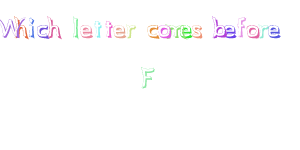F: (130, 62, 162, 91)
W: (1, 16, 19, 40)
b: (211, 10, 226, 42)
c: (36, 23, 50, 42), (145, 22, 158, 40)
e: (268, 21, 284, 42), (224, 21, 238, 43), (80, 22, 94, 42), (113, 21, 126, 41), (181, 22, 193, 42)
f: (235, 13, 246, 42)
h: (46, 15, 65, 41), (15, 12, 28, 42)
i: (26, 15, 37, 40)
l: (69, 16, 82, 42)
m: (170, 20, 184, 42)
o: (157, 22, 171, 42), (247, 21, 259, 42)
r: (126, 22, 138, 42), (259, 21, 268, 42)
s: (192, 22, 204, 41)
t: (93, 16, 103, 41), (104, 17, 114, 40)
